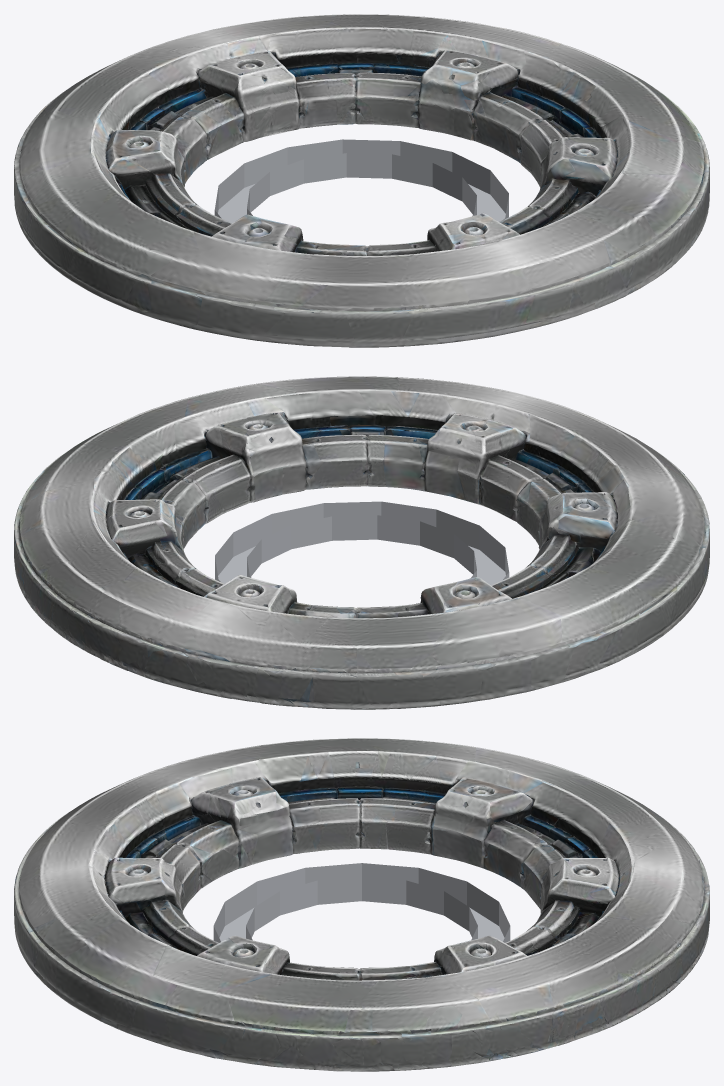
File: halo.glb
3 views of the same model, one above another, from view 1: azimuth 30°, elevation 25°; view 2: azimuth 150°, elevation 25°; view 3: azimuth 270°, elevation 25° (orthographic).
Visible parts, largest first — view 1: mesh_node; view 2: mesh_node; view 3: mesh_node.
Boxes of the visible parts, bbox=[...] form: mesh_node: bbox=[14, 14, 709, 347]; mesh_node: bbox=[14, 376, 709, 709]; mesh_node: bbox=[14, 738, 709, 1071].
Size of the model in its own units: 51.59 by 6.88 by 51.58.
Materials: 2 (1 with a texture image).
